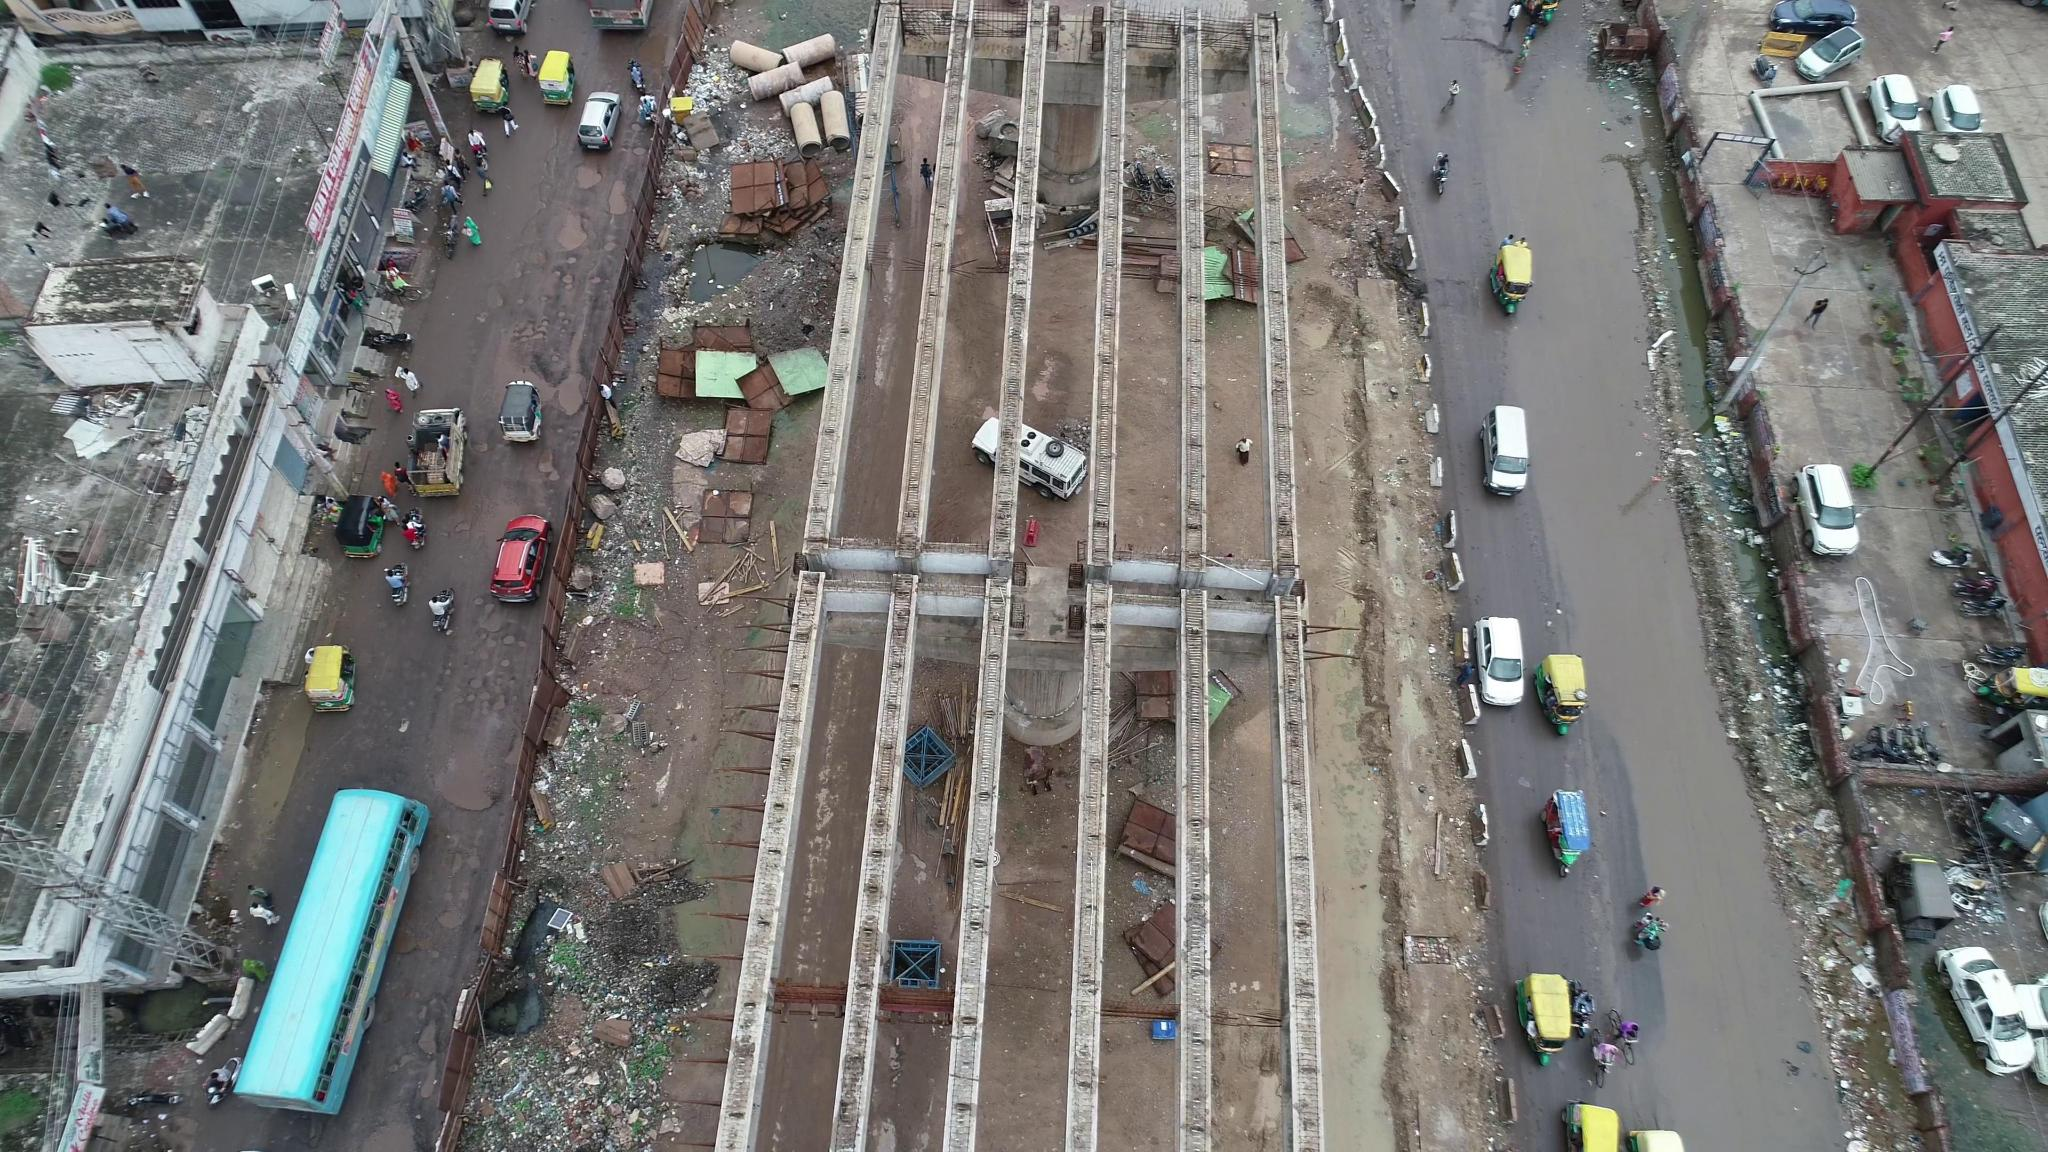Potholes: (454, 622, 532, 712), (392, 987, 447, 1101), (513, 252, 582, 342), (557, 165, 632, 248), (428, 826, 481, 935), (516, 442, 567, 492), (433, 520, 482, 550), (625, 115, 648, 163)
Waterlogging: (1620, 703, 1771, 1003), (1547, 416, 1689, 675)
